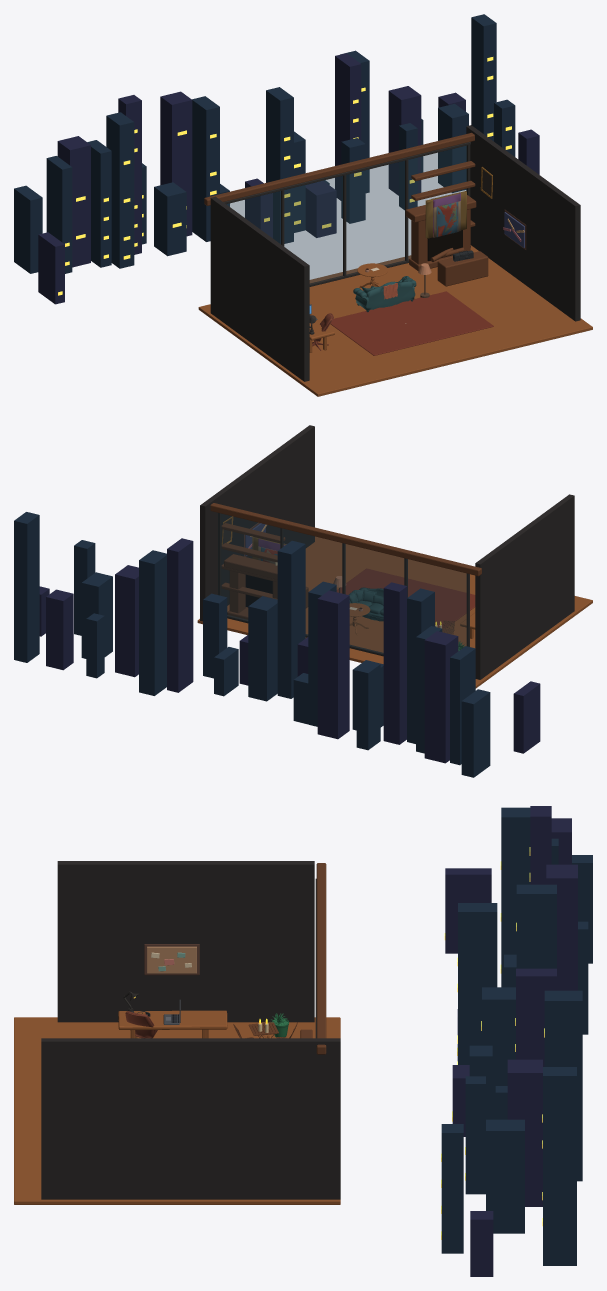
Rendered from cozy_city_loft_mobile.glb.
3 views of the same model, one above another, from view 1: azimuth 30°, elevation 25°; view 2: azimuth 150°, elevation 25°; view 3: azimuth 270°, elevation 25° (orthographic). The views are drawn at different scales.
Parts seen in each view (by area): view 1: City_Buildings, Loft_Floor, Window_Glass, Loft_RightWall, Loft_LeftWallStub, Loft_LeftWallStub.001, Rug, Loft_CeilingBeam, Sideboard, sofa_03, City_Windows, Window_TopRail (+3 smaller); view 2: City_Buildings, Window_Glass, Loft_RightWall, Loft_Floor, Loft_LeftWallStub.001, Loft_LeftWallStub, Loft_CeilingBeam, Rug, City_Mantel, sofa_03, City_RightPillar, City_DarkOpening; view 3: City_Buildings, Loft_RightWall, Loft_LeftWallStub.001, Loft_LeftWallStub, Loft_Floor, Loft_CeilingBeam, Study_Desk_Top, Workstation_Pinboard_Cork.
Part boxes in pixels (x1,y1,x2,y2): City_Buildings: [14, 14, 539, 304]; Loft_Floor: [198, 245, 592, 396]; Window_Glass: [227, 146, 466, 282]; Loft_RightWall: [466, 125, 580, 321]; Loft_LeftWallStub: [257, 230, 309, 381]; Loft_LeftWallStub.001: [210, 196, 262, 347]; Rug: [330, 291, 493, 355]; Loft_CeilingBeam: [204, 132, 474, 205]; Sideboard: [437, 251, 488, 286]; sofa_03: [353, 276, 416, 312]; City_Windows: [58, 57, 511, 295]; Window_TopRail: [223, 142, 470, 204]; City_Buildings: [14, 512, 540, 777]; Window_Glass: [218, 513, 467, 654]; Loft_RightWall: [200, 425, 314, 621]; Loft_Floor: [197, 536, 592, 688]; Loft_LeftWallStub.001: [475, 528, 528, 679]; Loft_LeftWallStub: [523, 494, 574, 644]; Loft_CeilingBeam: [210, 503, 481, 576]; Rug: [336, 568, 475, 628]; City_Mantel: [224, 554, 277, 579]; sofa_03: [349, 587, 383, 621]; City_RightPillar: [229, 571, 245, 613]; City_DarkOpening: [245, 575, 272, 607]; City_Buildings: [441, 806, 592, 1276]; Loft_RightWall: [41, 1038, 340, 1199]; Loft_LeftWallStub.001: [184, 861, 314, 1022]; Loft_LeftWallStub: [57, 861, 187, 1022]; Loft_Floor: [14, 1017, 340, 1204]; Loft_CeilingBeam: [316, 863, 326, 1054]; Study_Desk_Top: [118, 1010, 227, 1029]; Workstation_Pinboard_Cork: [147, 946, 196, 973].
Bounding box in the file's own units: 28.61 × 8.61 × 21.22.
